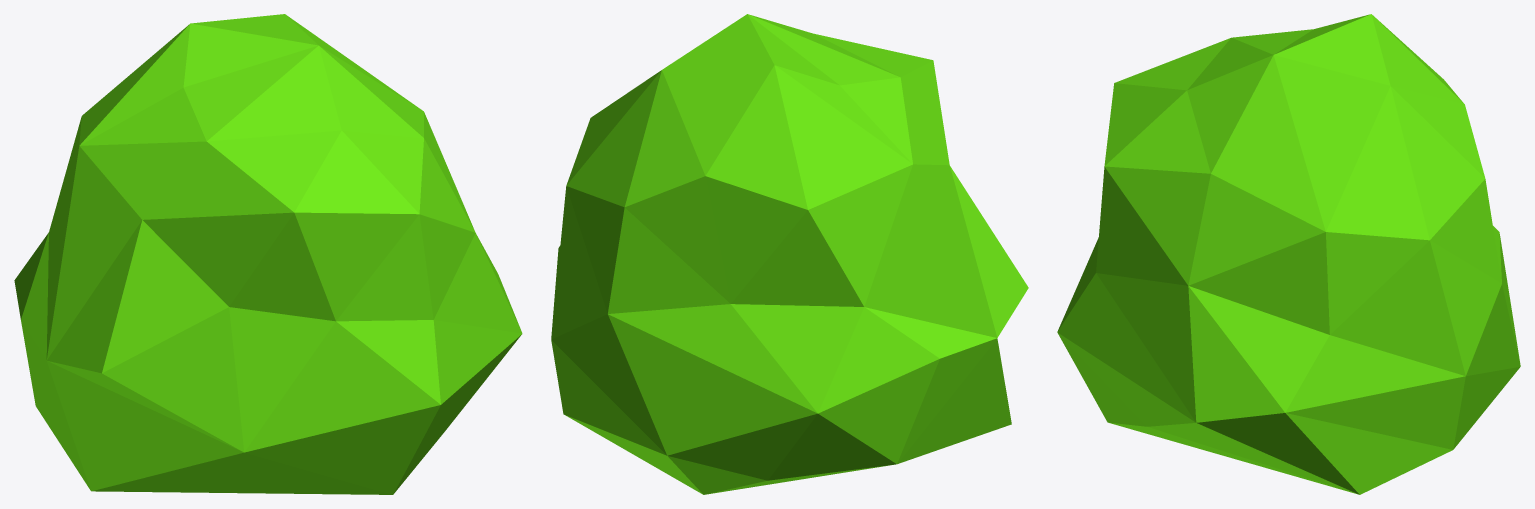
The model's file is BigBush.fbx.
The picture shows the model from 3 angles, left to right: view 1: azimuth 30°, elevation 25°; view 2: azimuth 150°, elevation 25°; view 3: azimuth 270°, elevation 25°; orthographic projection. The views are drawn at different scales.
Visible parts, largest first — view 1: BushBig; view 2: BushBig; view 3: BushBig.
Part boxes in pixels (<box>): BushBig: <box>14,14,522,494</box>; BushBig: <box>551,14,1028,494</box>; BushBig: <box>1057,14,1520,494</box>.
Size of the model in its own units: 538 by 464 by 496.
